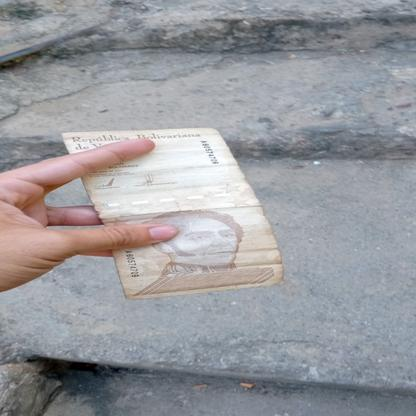five-front-vef: (60, 126, 283, 301)
